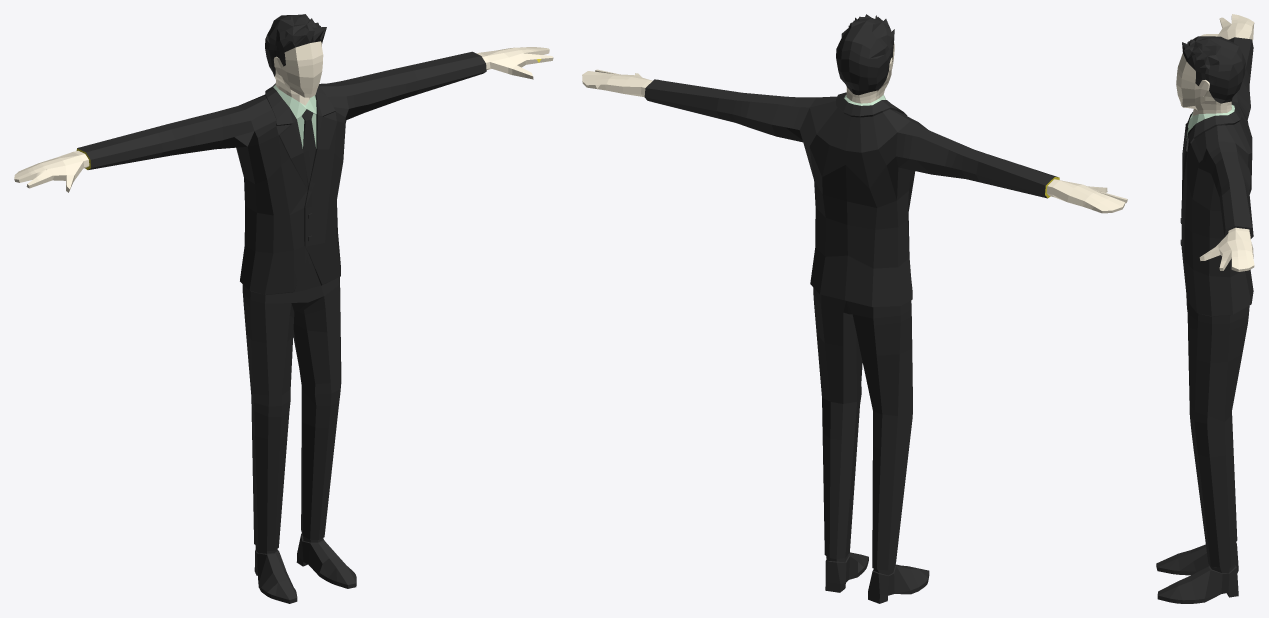
Rendered from spi.fbx.
3 renders of one model, left to right at view 1: azimuth 30°, elevation 25°; view 2: azimuth 150°, elevation 25°; view 3: azimuth 270°, elevation 25°, orthographic. The views are drawn at different scales.
Parts seen in each view (by area): view 1: spi; view 2: spi; view 3: spi.
Boxes of the visible parts, box(x1,y1,x2,y2) form: spi: box(14, 14, 553, 603); spi: box(582, 14, 1127, 603); spi: box(1156, 14, 1254, 603).
Bounding box in the file's own units: 184 × 183 × 29.84.
